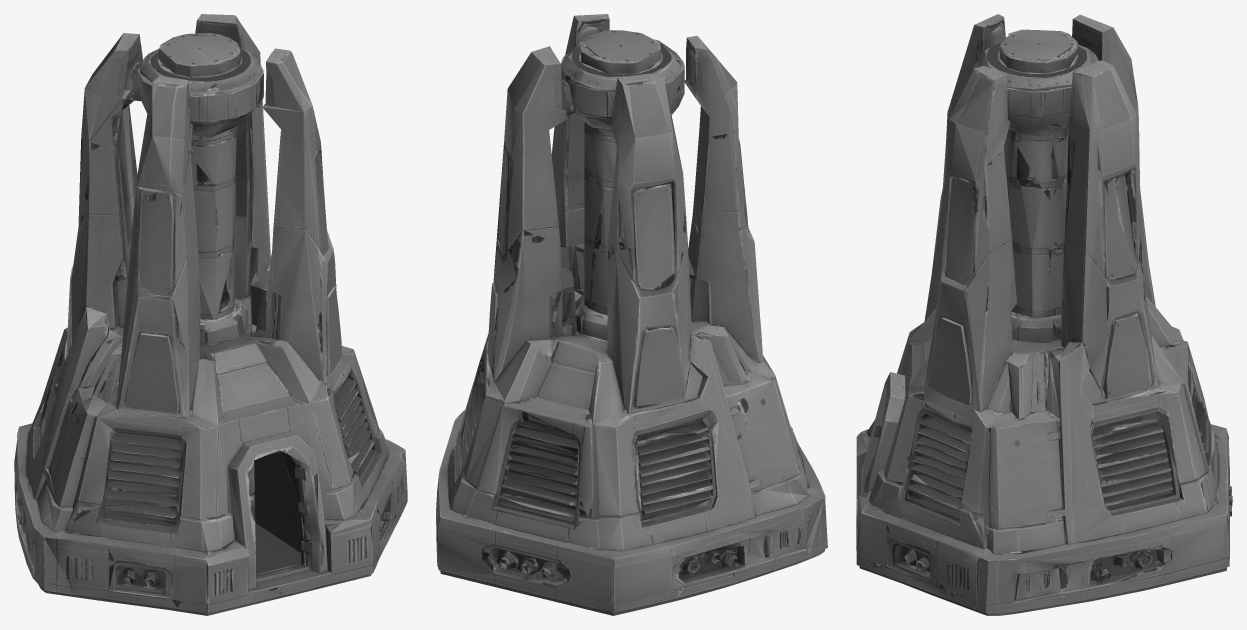
The model's file is shared_planetary_shield_pylon_lod1.glb.
3 views of the same model, side by side, from view 1: azimuth 30°, elevation 25°; view 2: azimuth 150°, elevation 25°; view 3: azimuth 270°, elevation 25° (orthographic).
Parts seen in each view (by area): view 1: mesh_node; view 2: mesh_node; view 3: mesh_node.
Boxes of the visible parts, x1,y1,x2,y2 form: mesh_node: (14, 14, 407, 615); mesh_node: (436, 14, 827, 615); mesh_node: (856, 14, 1232, 615).
Bounding box in the file's own units: 10.27 × 13.04 × 9.18.
Materials: 1 (1 with a texture image).
